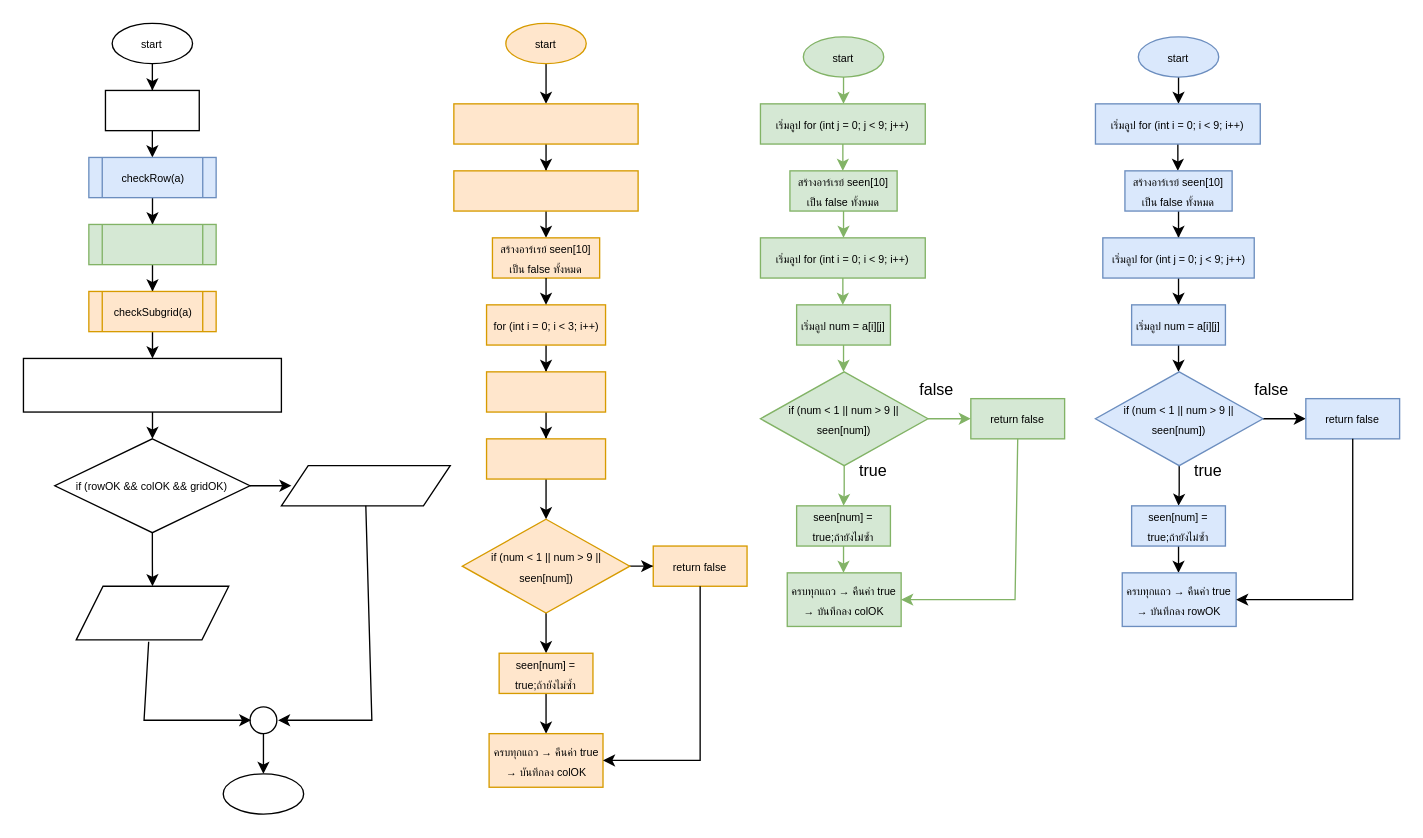
The diagram is 1423 pixels wide and 838 high, and some of its shapes have lost their labels. Here are the shapes that lost their labels. From the top down, the centre of each, then its label:
At [151,110]: "กำหนดค่า Sudoku ในตัวแปร a[9][9]".
At [545,123]: "for (int row = 0; row < 9; row += 3)".
At [545,190]: "for (int col = 0; col < 9; col += 3)".
At [152,244]: "checkColunm(a)".
At [151,384]: "แสดงผลลัพธ์ว่า Row / Column / Subgrid ถูกหรือไม่".
At [545,391]: "for (int j = 0; j < 3; j++)".
At [545,458]: "num = a[row+i][col+j]".
At [365,485]: "This sudoku is incorrect".
At [152,612]: "This sudoku is correct".
At [263,793]: "stop".
